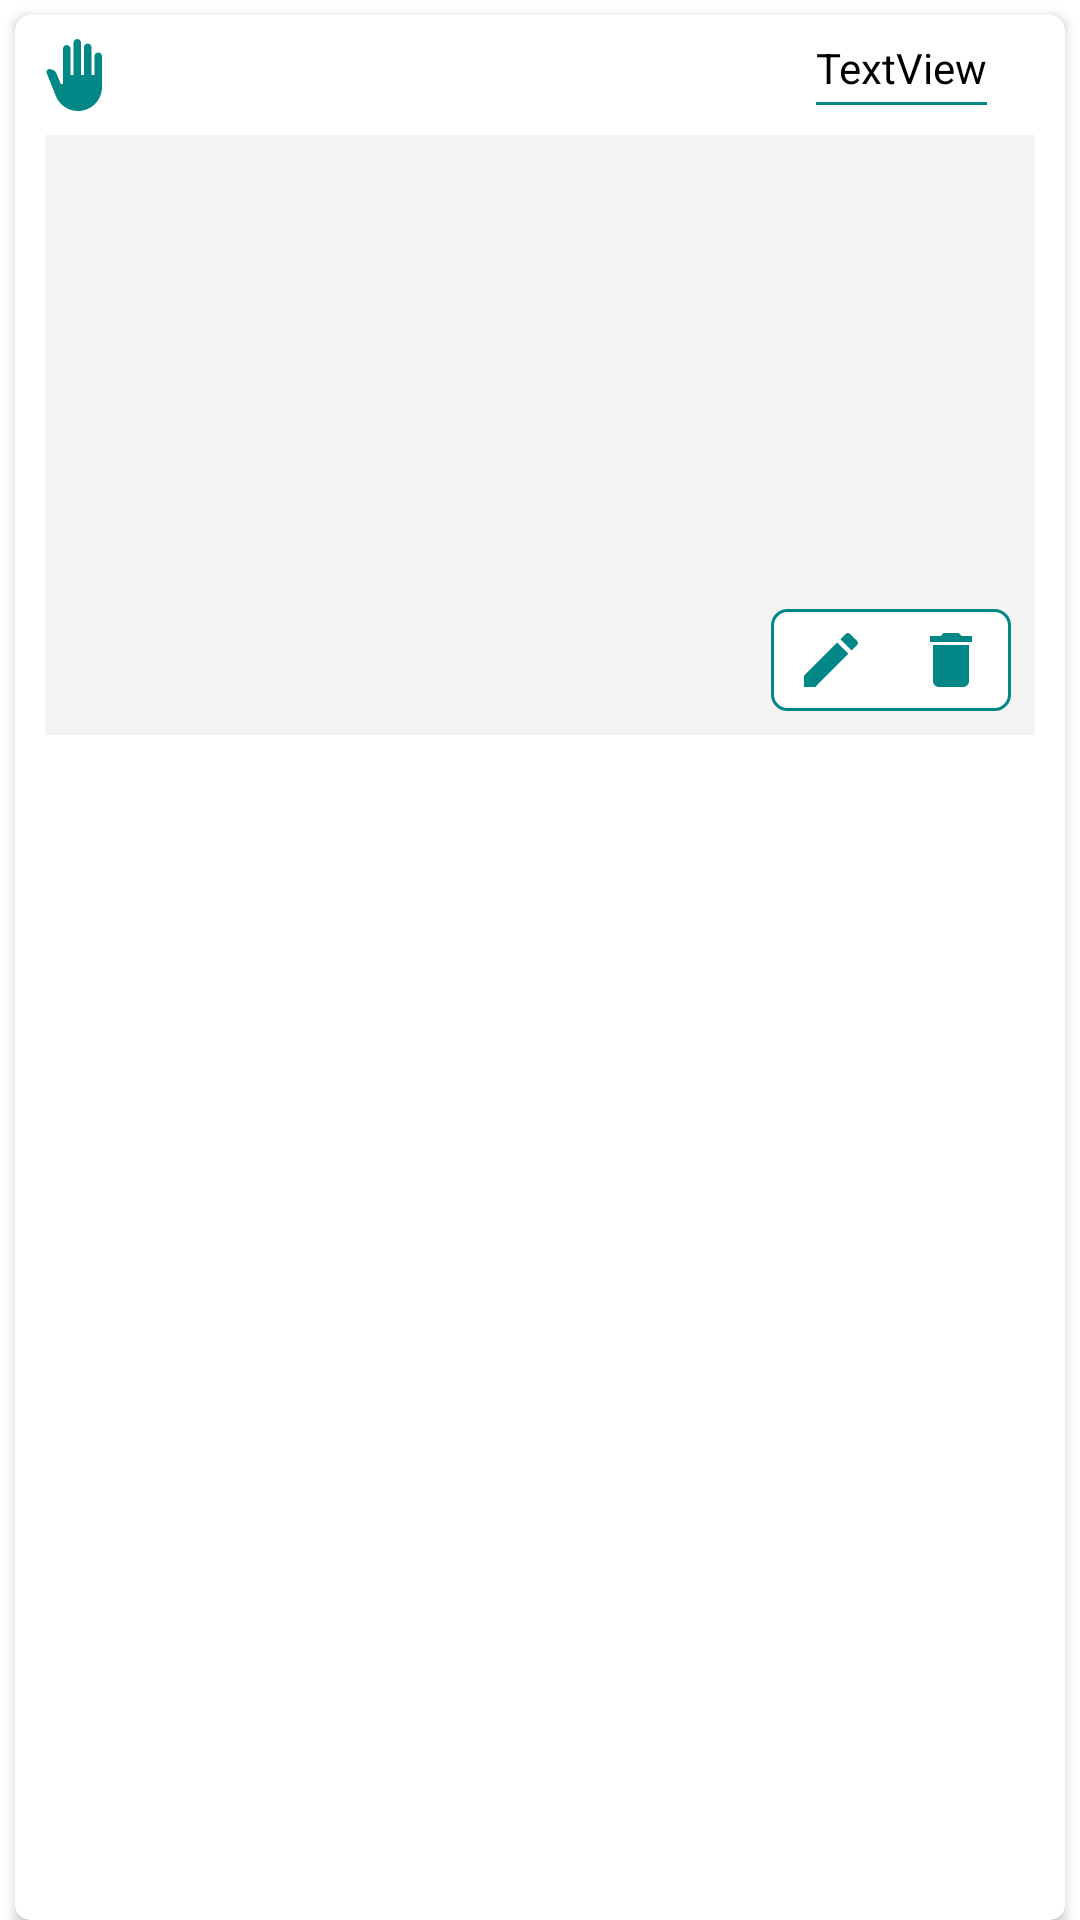

Named icons in this screenshot (1080*1920) and their centers, (x,y):
delete: (951,660)
drag: (74,75)
edit: (831,660)
